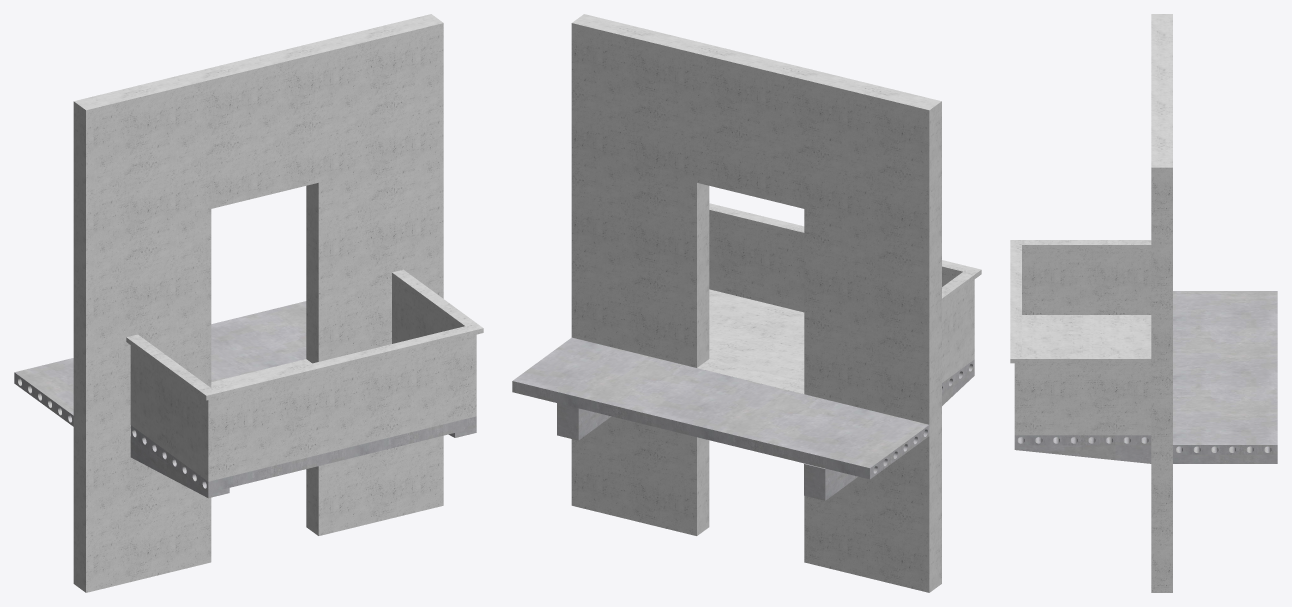
The model's file is cantilever-slab-exposed-beam.glb.
The picture shows the model from 3 angles, left to right: view 1: azimuth 30°, elevation 25°; view 2: azimuth 150°, elevation 25°; view 3: azimuth 270°, elevation 25°; orthographic projection. The views are drawn at different scales.
Parts seen in each view (by area): view 1: 挑梁搭板-挑梁外露; view 2: 挑梁搭板-挑梁外露; view 3: 挑梁搭板-挑梁外露.
Part boxes in pixels (<box>): 挑梁搭板-挑梁外露: <box>14,14,483,592</box>; 挑梁搭板-挑梁外露: <box>512,14,981,592</box>; 挑梁搭板-挑梁外露: <box>1010,14,1277,592</box>.
Bounding box in the file's own units: 4 × 5.16 × 2.94.
Materials: 2 (2 with a texture image).
